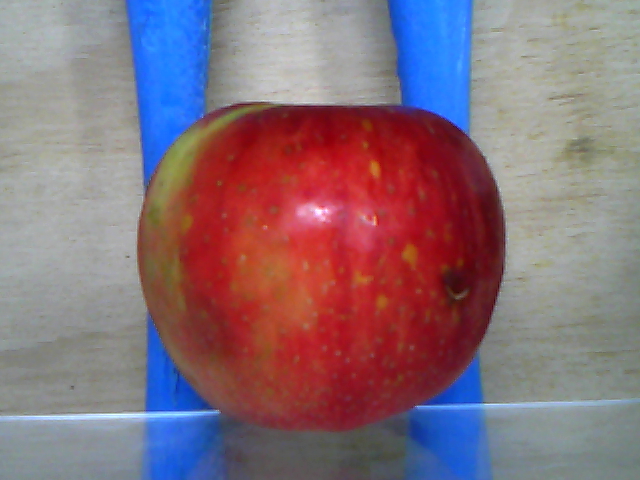cut: (442, 284, 473, 302)
